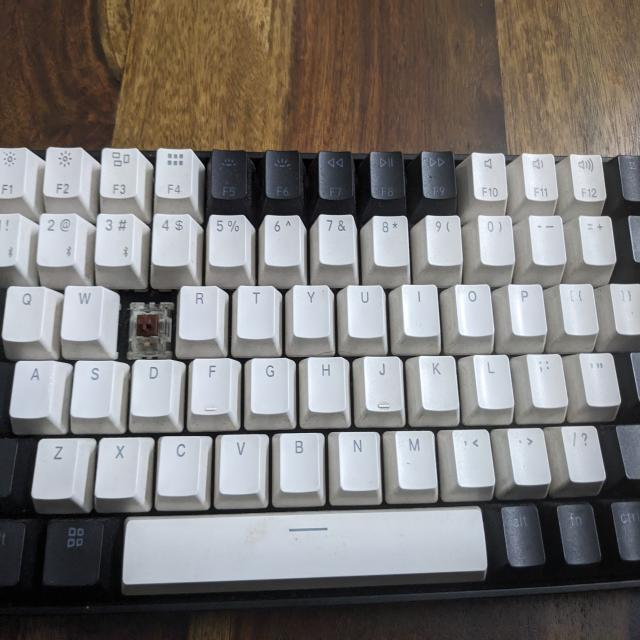C: (126, 298, 172, 353)
